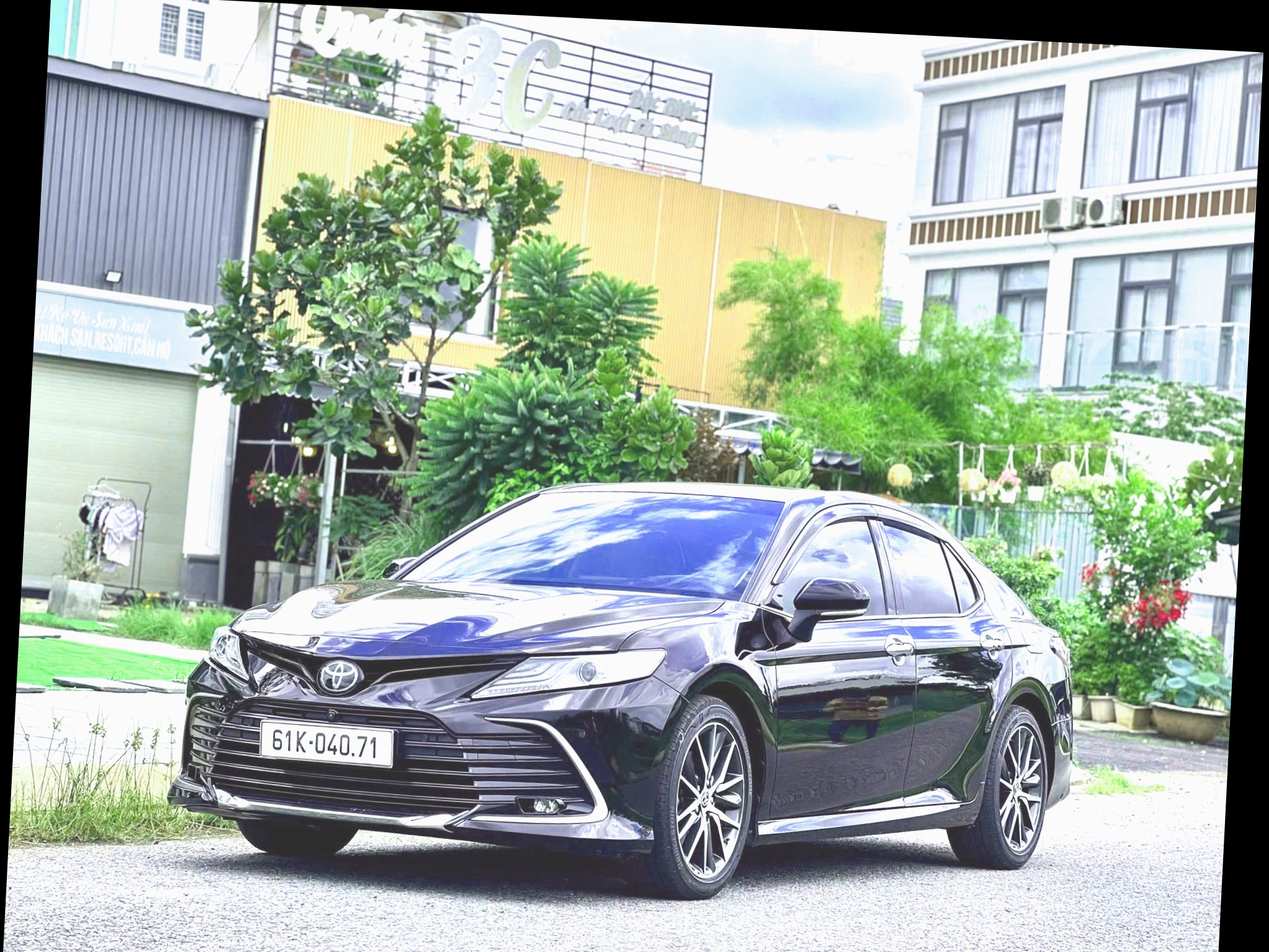Bien-so: (258, 715, 394, 771)
